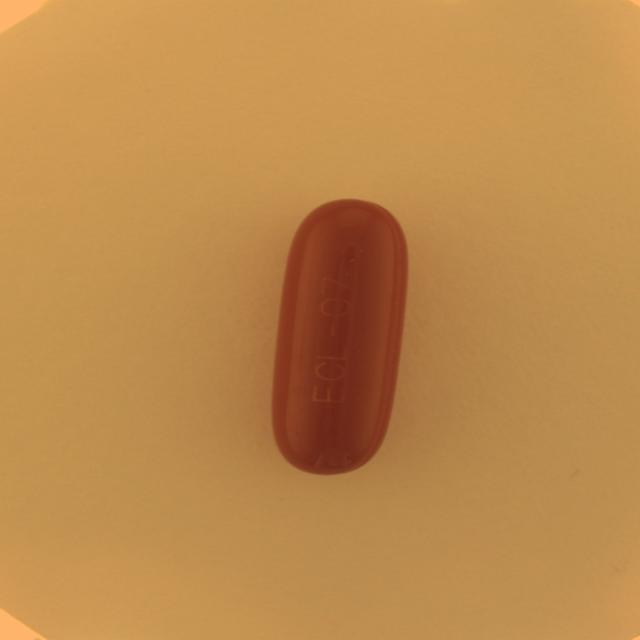Oval: (270, 197, 406, 479)
